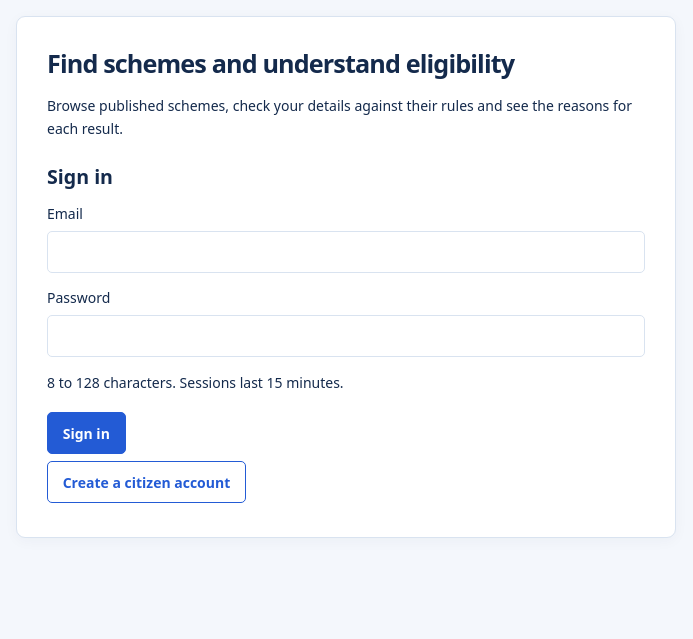
it: citizen authentication provides labeled inputs without a repetitive warning
Expected: the field labelled "Email" is shown, [47,231,645,273]
Expected: the password field labelled "Password" is shown, [47,315,645,357]
Click the button "Create a citizen account" at (146, 482), box [47,461,246,503]
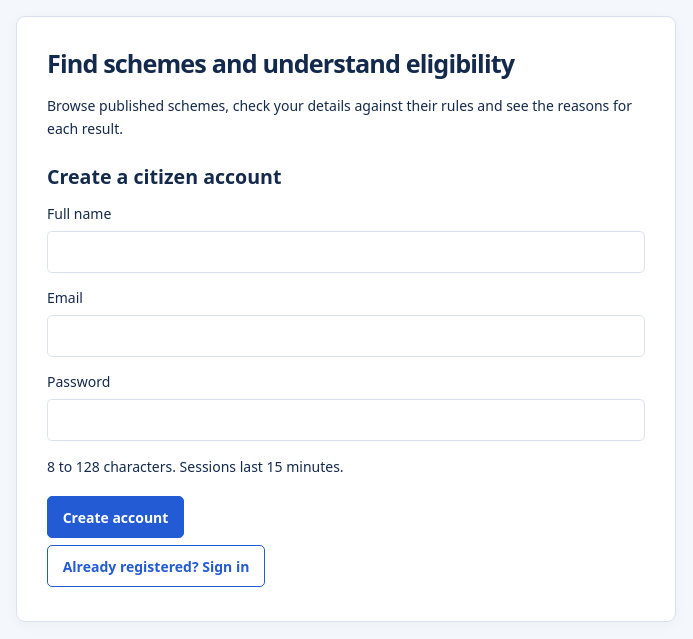
Expected: the field labelled "Full name" is shown, [47,231,645,273]
Now the button "Create account" is shown, box [47,496,184,538]
